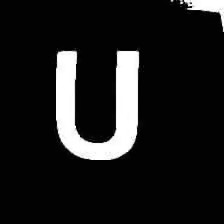LTR_U: (54, 35, 143, 166)
